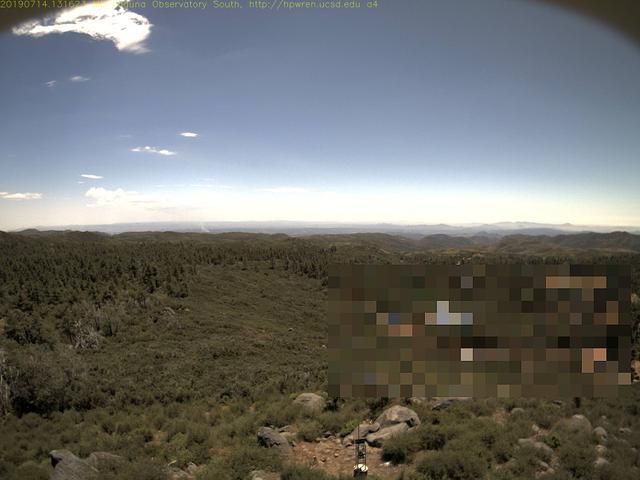smoke: (178, 211, 213, 232)
